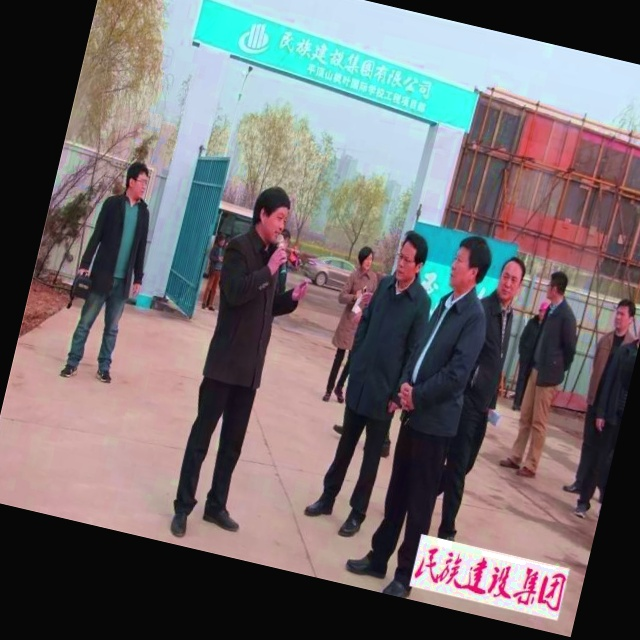Sin_Casco_Mascarrilla: (247, 182, 295, 247), (447, 232, 494, 293), (391, 227, 433, 288), (493, 254, 530, 307)
